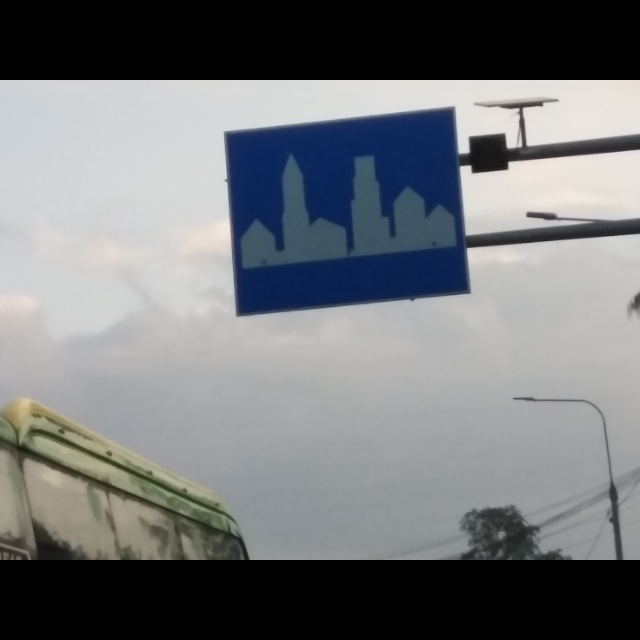Khu đông dân cư: (219, 104, 473, 316)
